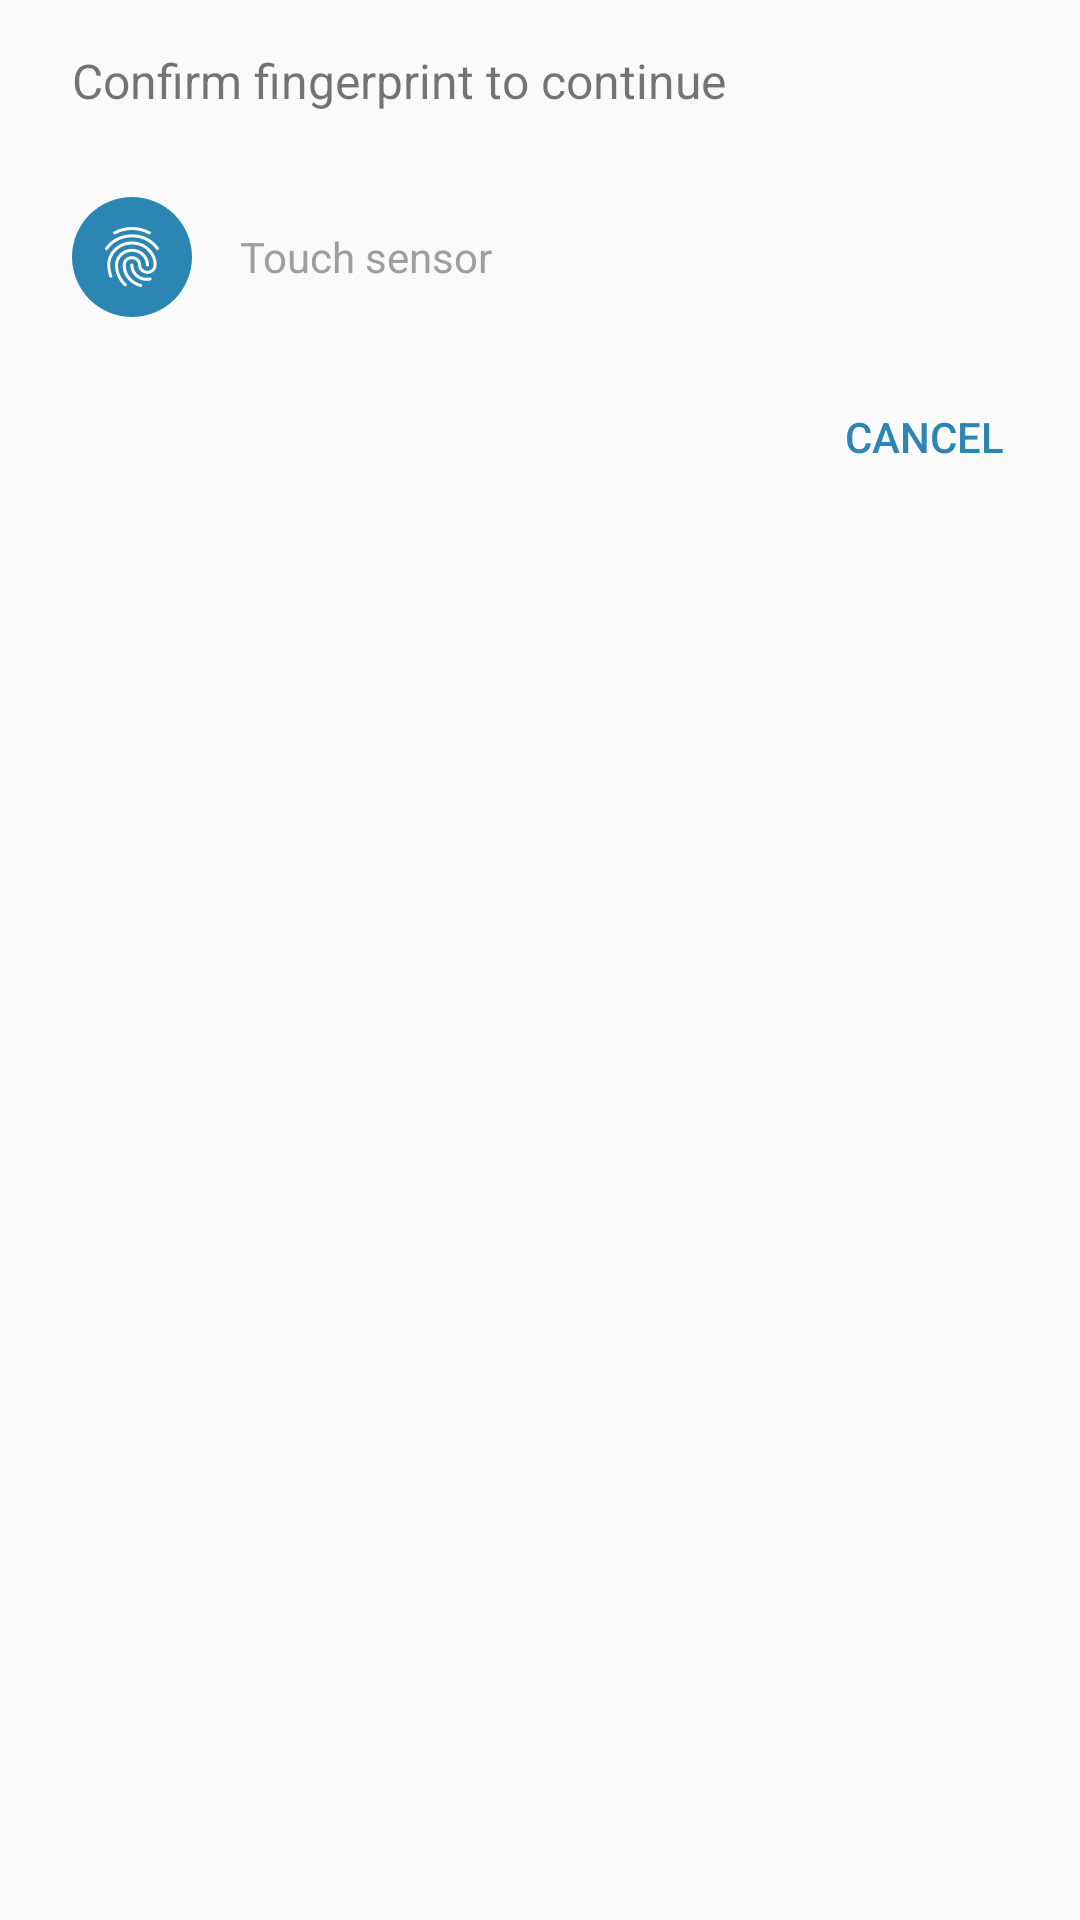

Icon bounding boxes for this 1080x1920 phone screenshot, format detection(x1, y1, x2, y2):
fingerprint idle: detection(72, 197, 192, 317)
